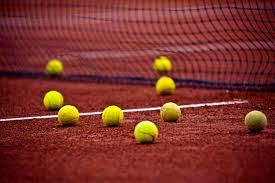tennis_ball: (133, 119, 158, 145), (244, 109, 268, 133), (101, 104, 124, 128), (57, 104, 80, 128), (159, 101, 181, 123), (42, 90, 64, 111), (155, 75, 175, 96), (152, 55, 172, 75), (45, 58, 64, 77)
